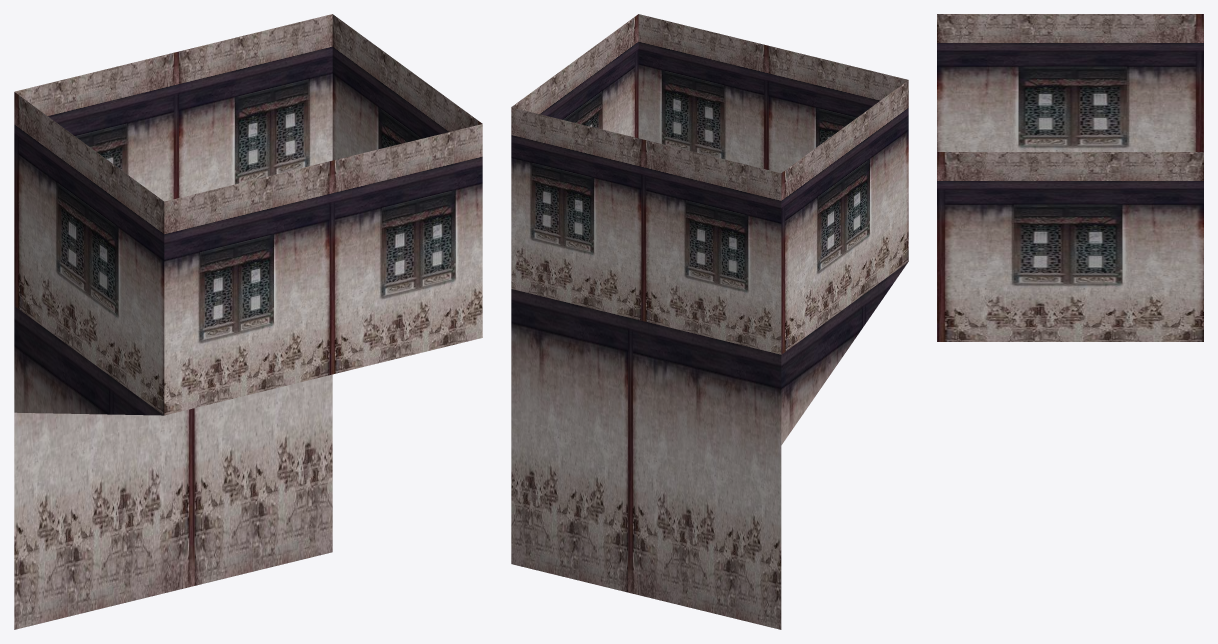
3 views of the same model, side by side, from view 1: azimuth 30°, elevation 25°; view 2: azimuth 150°, elevation 25°; view 3: azimuth 270°, elevation 25° (orthographic). The views are drawn at different scales.
Visible parts, largest first — view 1: Shape37; view 2: Shape37; view 3: Shape37.
Part boxes in pixels (<box>): Shape37: <box>14,14,482,629</box>; Shape37: <box>511,14,908,629</box>; Shape37: <box>937,14,1203,341</box>.
Bounding box in the file's own units: 309 × 500 × 253.
